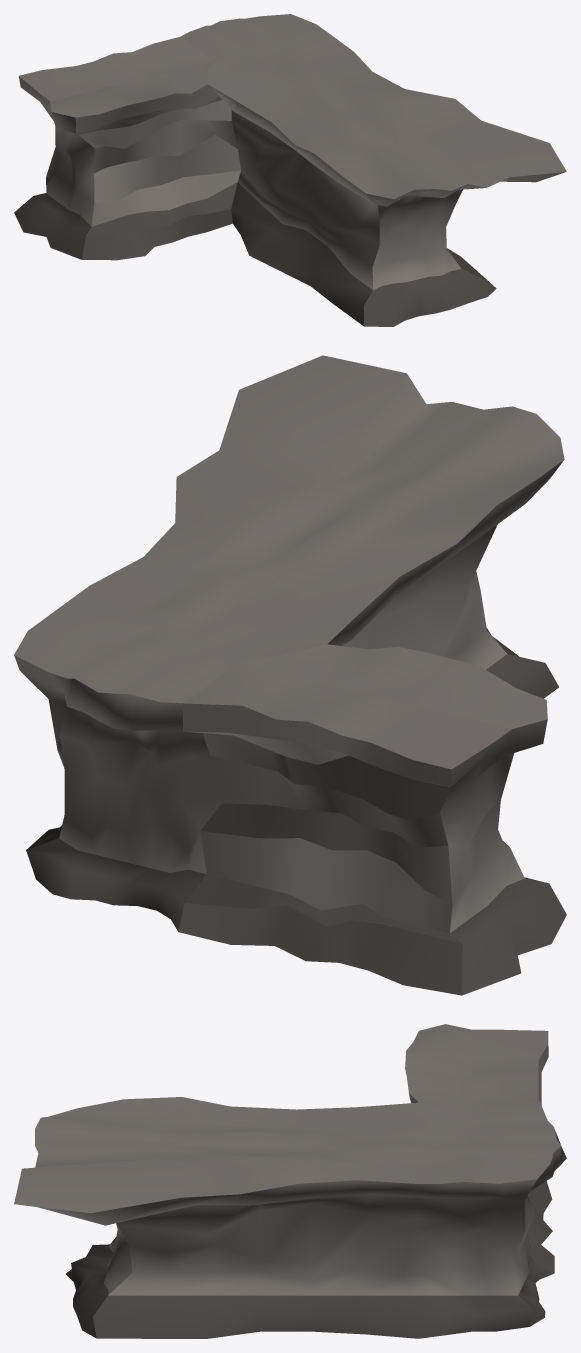
The model's file is Wall3_Asset.fbx.
3 views of the same model, one above another, from view 1: azimuth 30°, elevation 25°; view 2: azimuth 150°, elevation 25°; view 3: azimuth 270°, elevation 25° (orthographic). The views are drawn at different scales.
Visible parts, largest first — view 1: Wall3_Asset; view 2: Wall3_Asset; view 3: Wall3_Asset.
Part boxes in pixels (x1,y1,x2,y2): Wall3_Asset: (14, 14, 566, 326); Wall3_Asset: (14, 355, 566, 995); Wall3_Asset: (14, 1024, 566, 1338).
Size of the model in its own units: 10.62 by 4.16 by 12.88.
